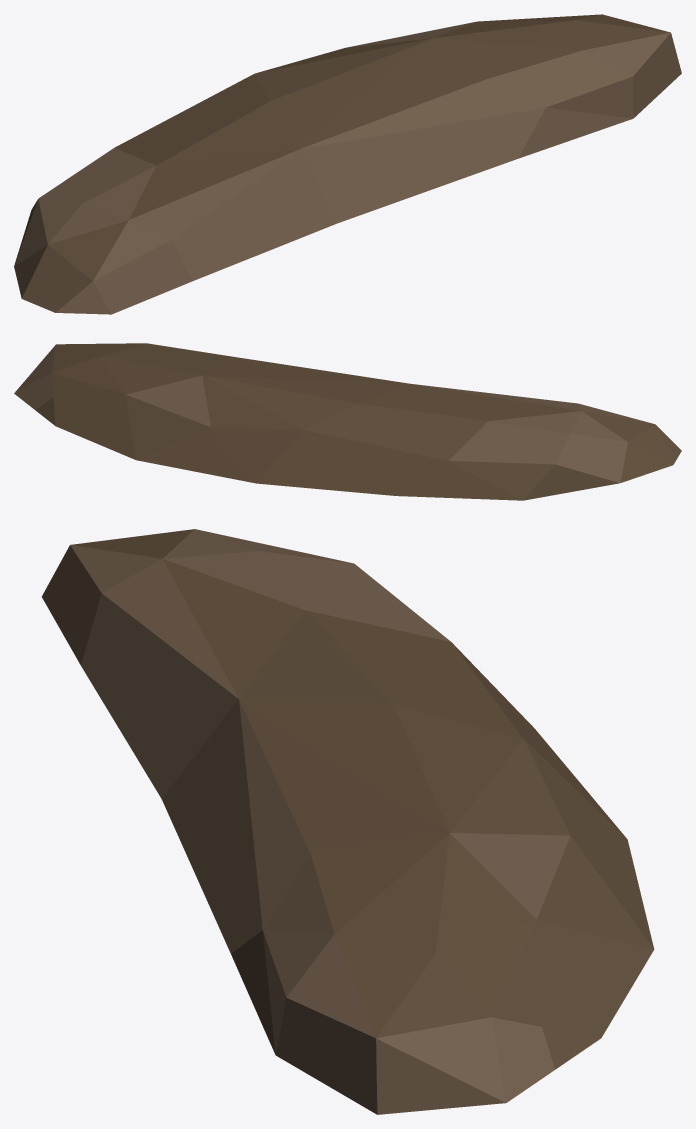
Rendered from EA03_Env_RoadIslandMud_01a.glb.
3 views of the same model, one above another, from view 1: azimuth 30°, elevation 25°; view 2: azimuth 150°, elevation 25°; view 3: azimuth 270°, elevation 25° (orthographic). The views are drawn at different scales.
Parts seen in each view (by area): view 1: EA03_Env_RoadIslandMud_01a; view 2: EA03_Env_RoadIslandMud_01a; view 3: EA03_Env_RoadIslandMud_01a.
Part boxes in pixels (left/top/right/bottom): EA03_Env_RoadIslandMud_01a: left=14, top=14, right=681, bottom=314; EA03_Env_RoadIslandMud_01a: left=14, top=343, right=681, bottom=500; EA03_Env_RoadIslandMud_01a: left=41, top=529, right=654, bottom=1114.
Bounding box in the file's own units: 3.88 × 0.3735 × 1.81.
Materials: 1 (1 with a texture image).
